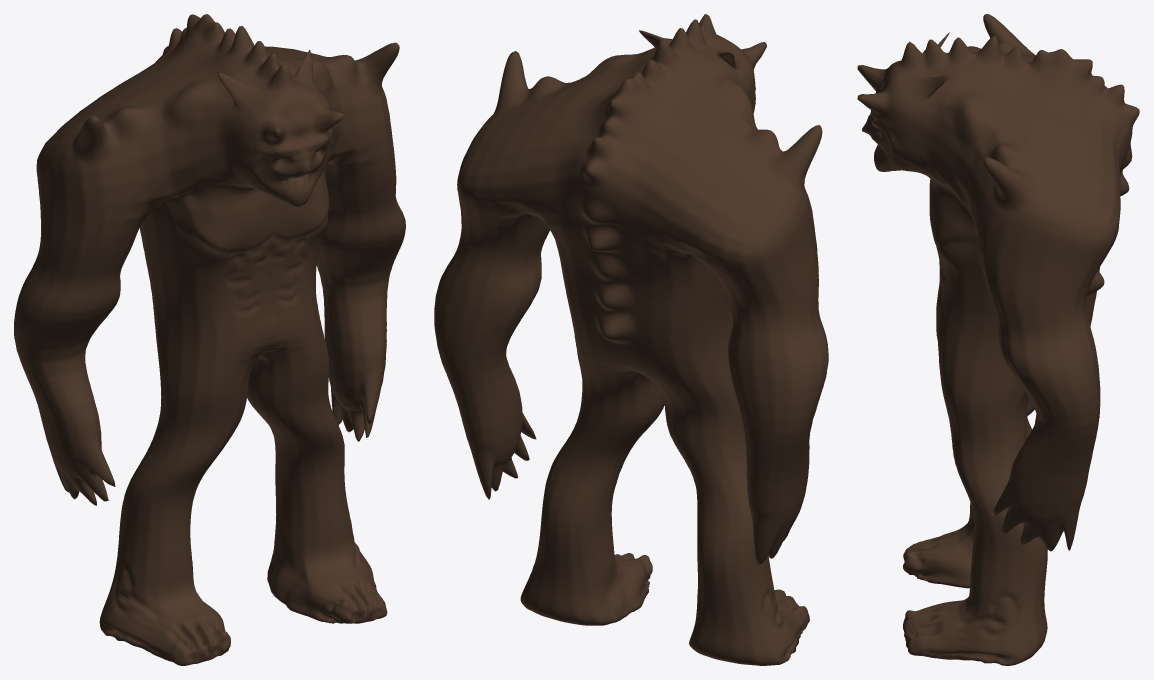
File: giant.fbx
3 renders of one model, left to right at view 1: azimuth 30°, elevation 25°; view 2: azimuth 150°, elevation 25°; view 3: azimuth 270°, elevation 25°, orthographic. The views are drawn at different scales.
Visible parts, largest first — view 1: Cube; view 2: Cube; view 3: Cube.
Part boxes in pixels (x1,y1,x2,y2): Cube: (14, 14, 405, 665); Cube: (434, 14, 828, 665); Cube: (857, 14, 1139, 665).
Size of the model in its own units: 135 by 200 by 89.41.
